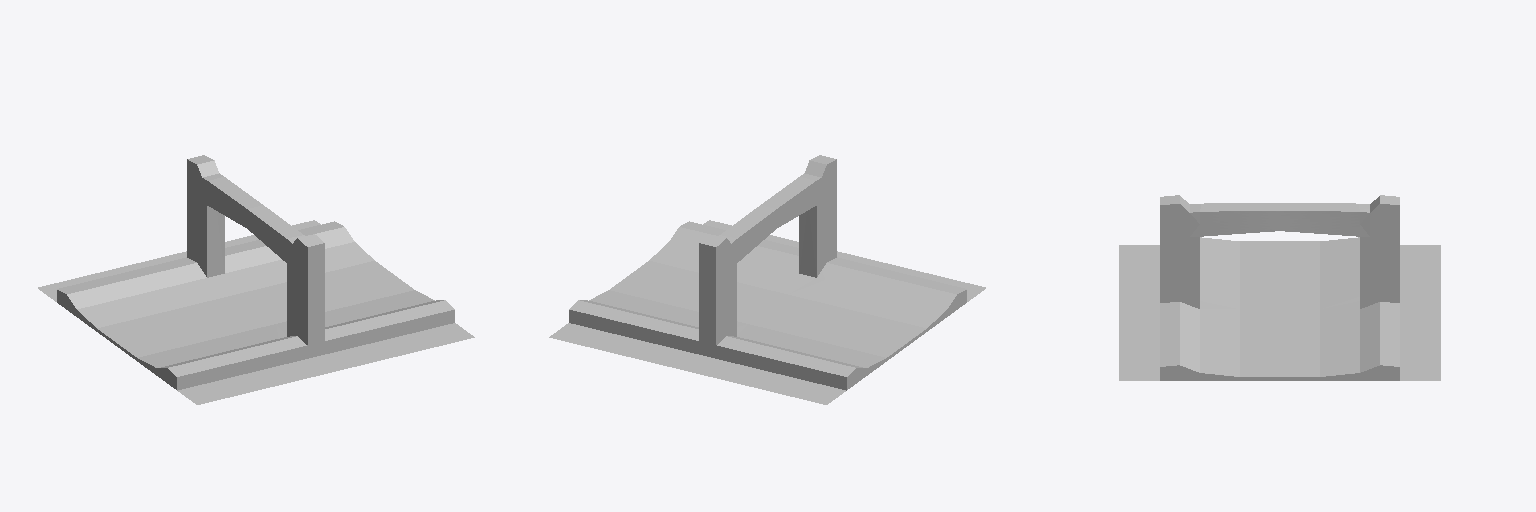
The model's file is Checkpoint.obj.
3 views of the same model, side by side, from view 1: azimuth 30°, elevation 25°; view 2: azimuth 150°, elevation 25°; view 3: azimuth 270°, elevation 25° (orthographic).
Size of the model in its own units: 8 by 3.12 by 8.